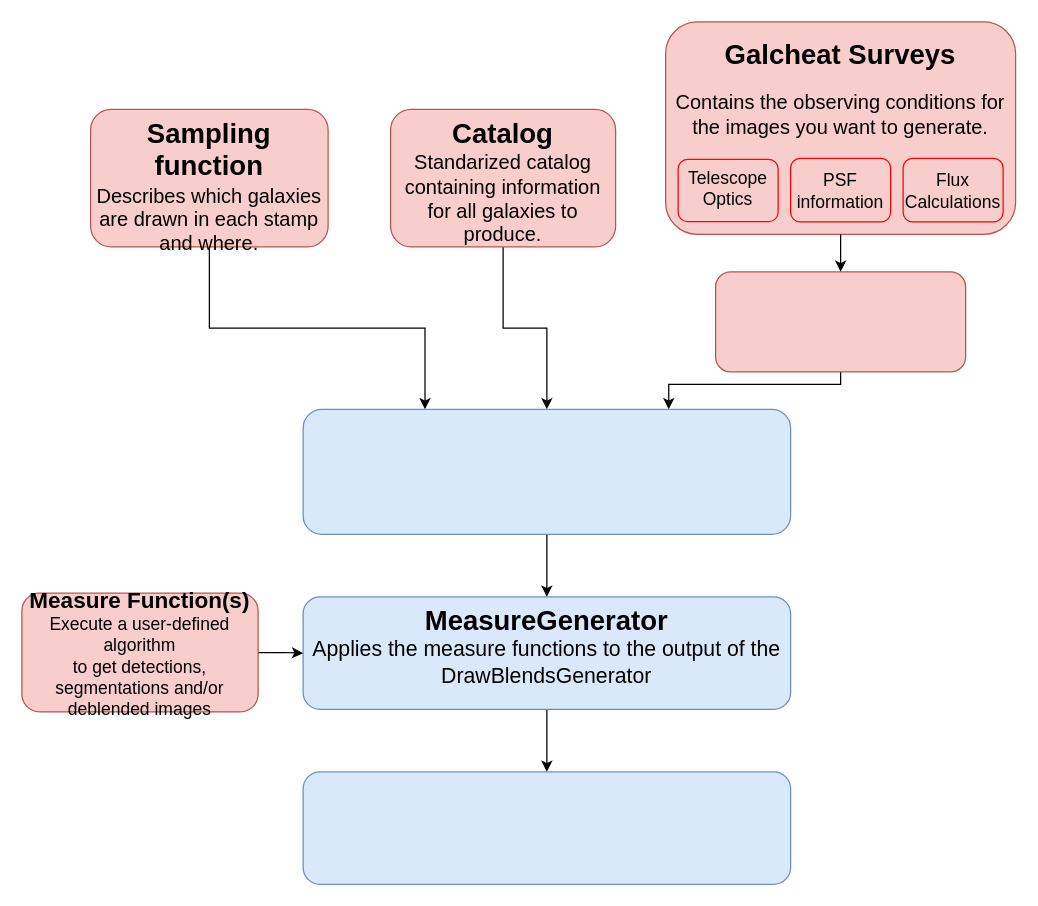
This 1038x906 diagram has some shape labels left out. The shapes that lost their labels are listed below. From the top down, each one's centre as x and y in pixels, then its label:
At (x=840, y=321): "PSF Calculated from Survey parameters or User-ingested".
At (x=546, y=471): "DrawBlendsGenerator Draws the blends according to the entry parameters".
At (x=546, y=827): "MetricsGenerator Computes the metrics on the results of the MeasureGenerator".
